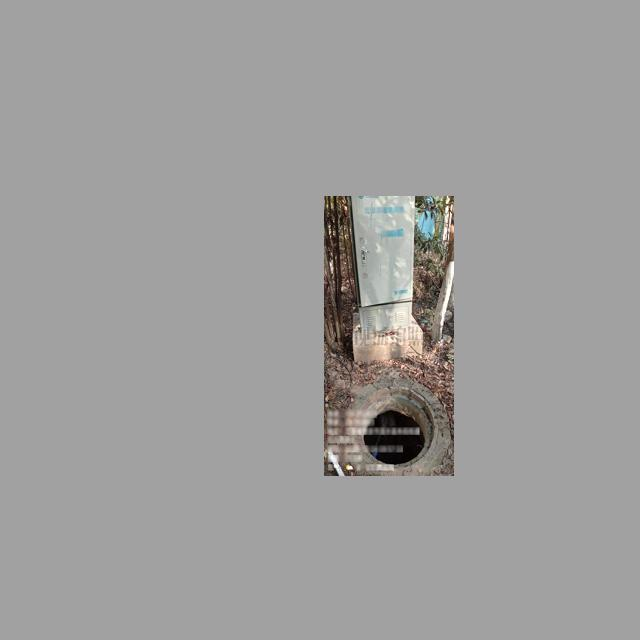lose: (352, 386, 437, 468)
